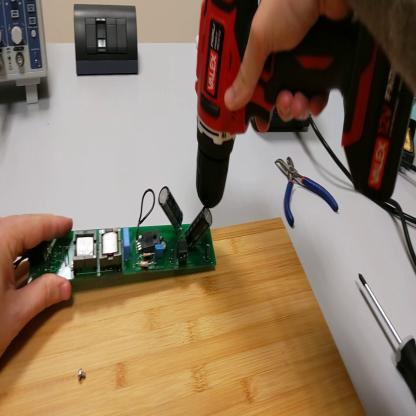electric screwdriver: (196, 3, 416, 211)
hand: (224, 3, 347, 126), (2, 214, 74, 357)
high voltage board: (17, 184, 227, 279)
oscilloscope: (2, 3, 48, 104)
pliers: (276, 157, 340, 229)
screwdriver-: (360, 274, 416, 402)
working area: (2, 219, 368, 414)
